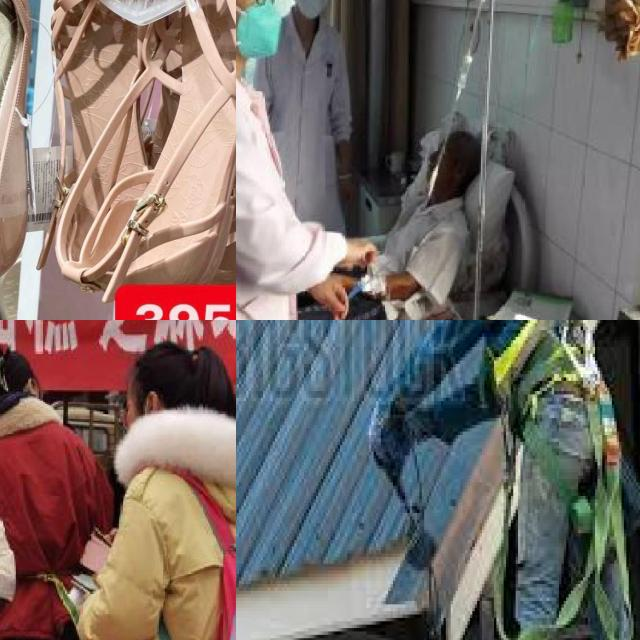Harness: (460, 320, 639, 640)
Sandals: (38, 0, 236, 303)
face_mask: (236, 0, 282, 66), (294, 0, 336, 28)
hand_noglove: (313, 277, 350, 320), (338, 235, 378, 273), (339, 180, 355, 206)
head_nohelmet: (114, 353, 170, 391)
person: (236, 122, 539, 320), (65, 325, 236, 640), (236, 0, 340, 320), (257, 0, 379, 267), (0, 345, 110, 640)
